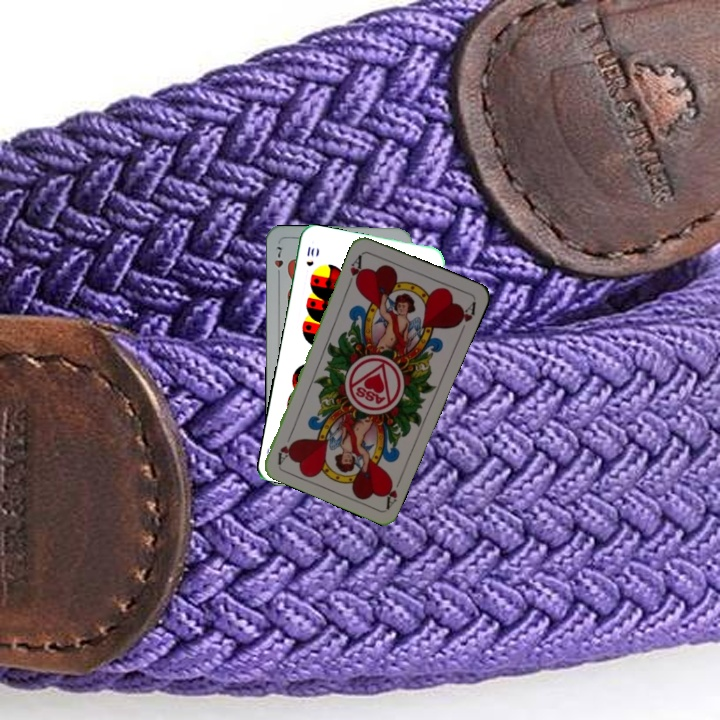H7: (270, 242, 285, 281)
HA: (379, 471, 405, 510), (344, 251, 366, 290)
S10: (302, 243, 317, 269)
